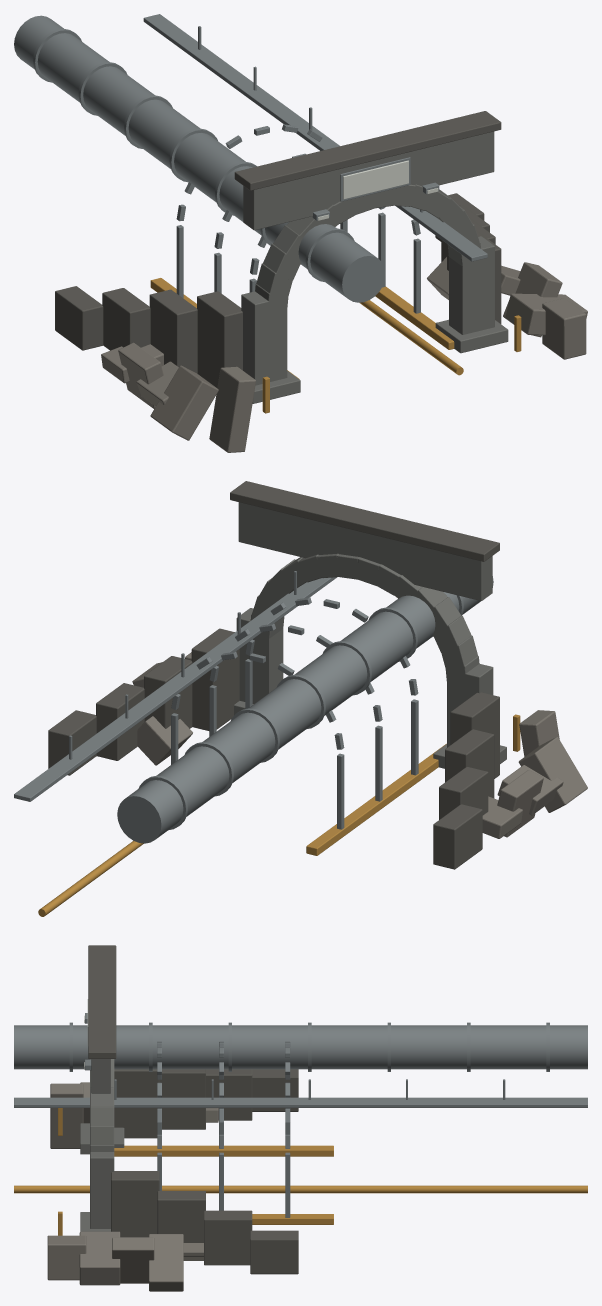
The model's file is portal-yard.glb.
3 views of the same model, one above another, from view 1: azimuth 30°, elevation 25°; view 2: azimuth 150°, elevation 25°; view 3: azimuth 270°, elevation 25° (orthographic). The views are drawn at different scales.
Visible parts, largest first — view 1: portal_surfaces; view 2: portal_surfaces; view 3: portal_surfaces.
Boxes of the visible parts, x1,y1,x2,y2 form: portal_surfaces: (14, 14, 587, 452); portal_surfaces: (14, 481, 587, 916); portal_surfaces: (14, 945, 587, 1291).
Bounding box in the file's own units: 19.48 × 10.77 × 26.
